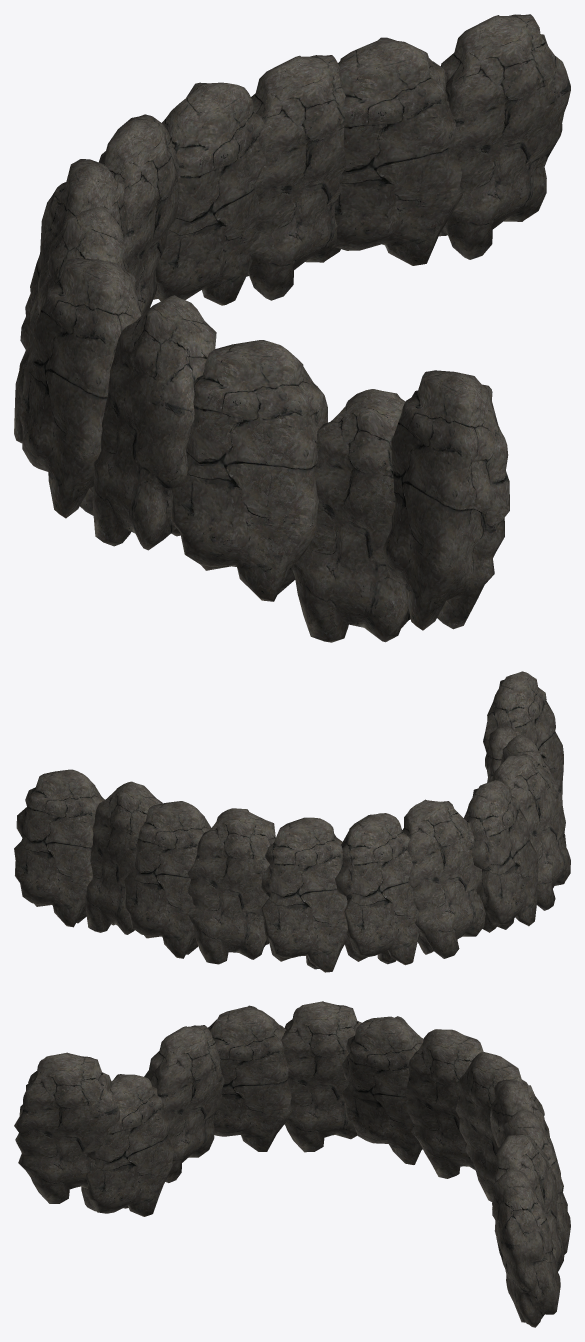
File: TwinPeakRocksShape7.dae
3 views of the same model, one above another, from view 1: azimuth 30°, elevation 25°; view 2: azimuth 150°, elevation 25°; view 3: azimuth 270°, elevation 25° (orthographic). The views are drawn at different scales.
Parts seen in each view (by area): view 1: TwinPeakRocks7; view 2: TwinPeakRocks7; view 3: TwinPeakRocks7.
Part boxes in pixels (<box>): TwinPeakRocks7: <box>14,14,570,642</box>; TwinPeakRocks7: <box>14,671,570,972</box>; TwinPeakRocks7: <box>14,1001,570,1327</box>.
Bounding box in the file's own units: 280 × 114 × 310.
